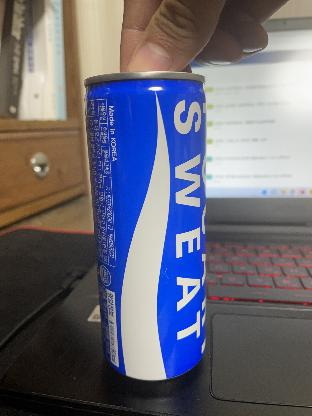Can: (83, 75, 211, 381)
